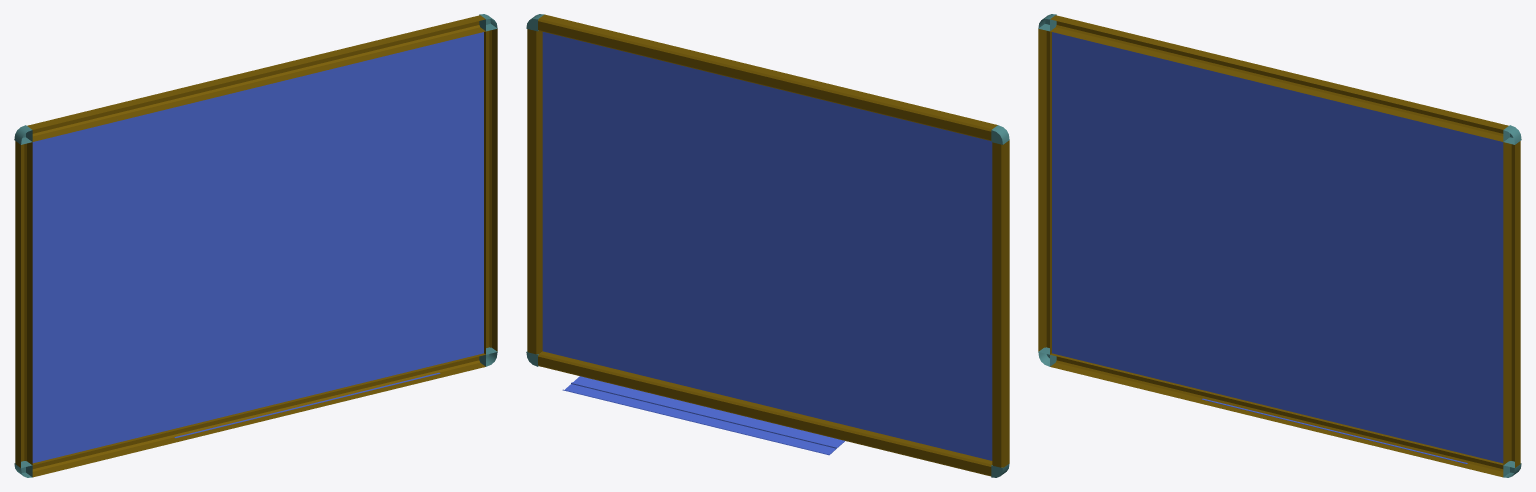
The model's file is blackboard3.fbx.
3 renders of one model, left to right at view 1: azimuth 30°, elevation 25°; view 2: azimuth 150°, elevation 25°; view 3: azimuth 330°, elevation 25°, orthographic.
Parts seen in each view (by area): view 1: Line008; view 2: Line008; view 3: Line008.
Part boxes in pixels (left/top/right/bottom): Line008: left=14, top=14, right=497, bottom=477; Line008: left=526, top=14, right=1009, bottom=477; Line008: left=1038, top=14, right=1521, bottom=477.
Bounding box in the file's own units: 0.724 × 0.5089 × 0.0611.
